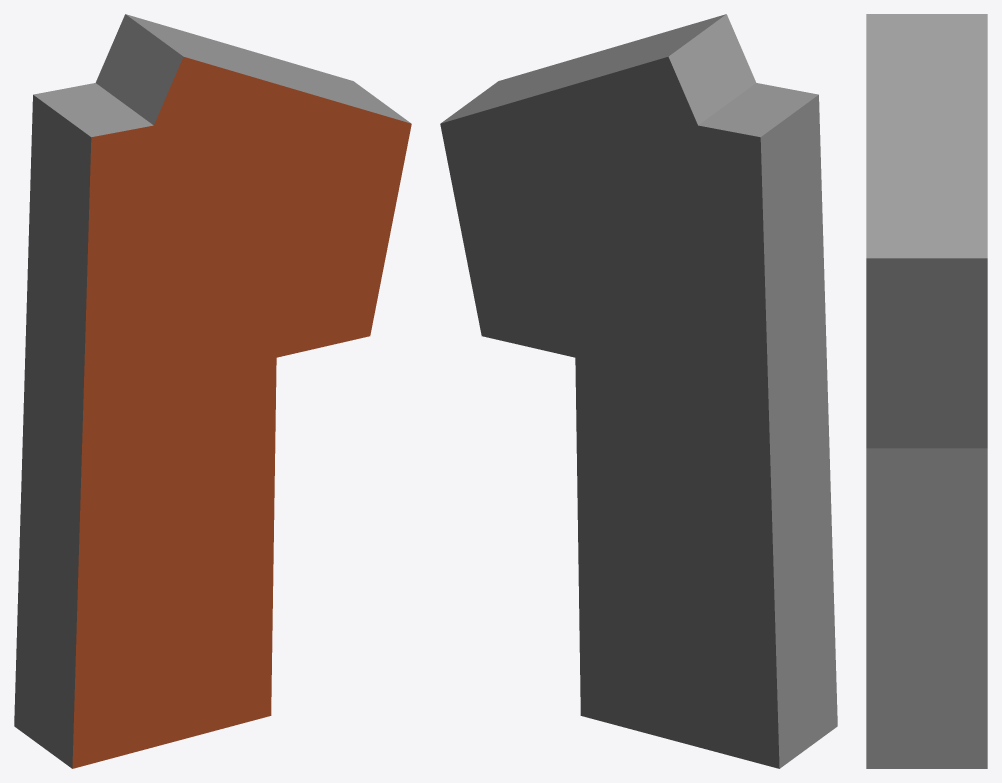
Rendered from construction_5967_assumed_A_Casa_h6m.obj.
3 views of the same model, side by side, from view 1: azimuth 30°, elevation 25°; view 2: azimuth 150°, elevation 25°; view 3: azimuth 270°, elevation 25° (orthographic). The views are drawn at different scales.
Parts seen in each view (by area): view 1: construction_5967_assumed_A_Casa; view 2: construction_5967_assumed_A_Casa; view 3: construction_5967_assumed_A_Casa.
Part boxes in pixels (x1=…): construction_5967_assumed_A_Casa: x1=14, y1=14, x2=411, y2=768; construction_5967_assumed_A_Casa: x1=440, y1=14, x2=837, y2=768; construction_5967_assumed_A_Casa: x1=866, y1=14, x2=987, y2=768.
Size of the model in its own units: 20.17 by 38.92 by 6.
